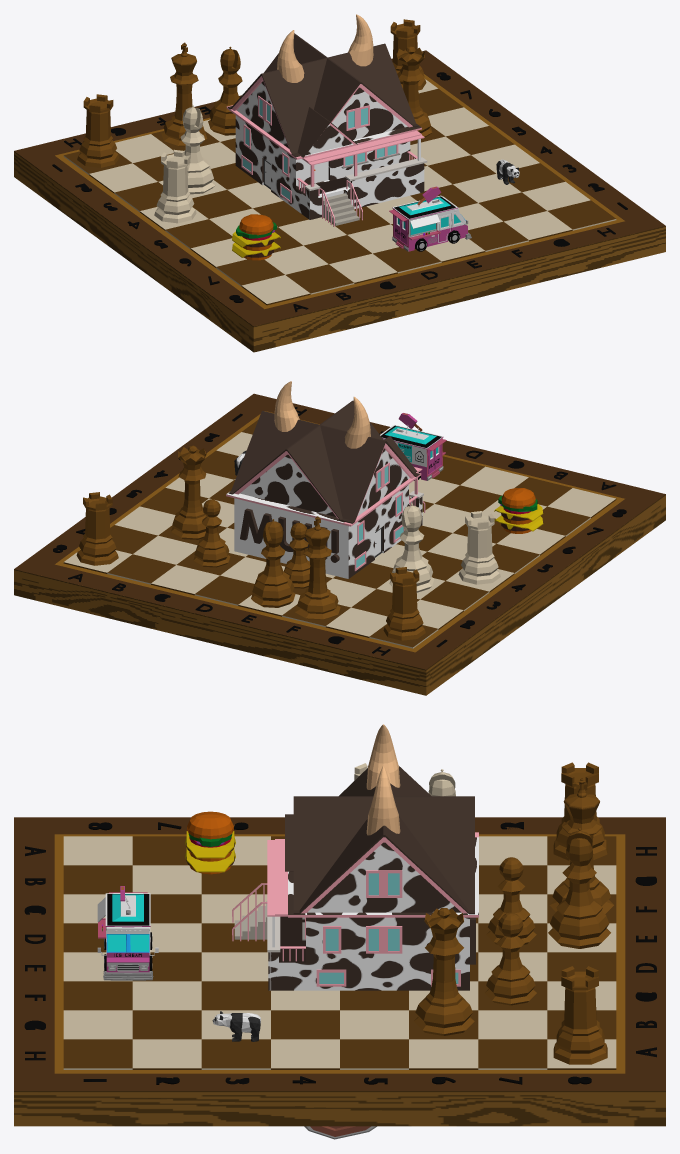
3 views of the same model, one above another, from view 1: azimuth 30°, elevation 25°; view 2: azimuth 150°, elevation 25°; view 3: azimuth 270°, elevation 25° (orthographic). The views are drawn at different scales.
Parts seen in each view (by area): view 1: Cube.002, Cube.1242, VEHICLES_ICE_CREAM_TRUCK, OBJRANDOM_HAMBURGER; view 2: Cube.002, Cube.1242, VEHICLES_ICE_CREAM_TRUCK, OBJRANDOM_HAMBURGER; view 3: Cube.002, Cube.1242, VEHICLES_ICE_CREAM_TRUCK, OBJRANDOM_HAMBURGER, ANIMAL_PANDA, UNDERGROUND_TREASURE.
Boxes of the visible parts, x1,y1,x2,y2 form: Cube.002: (14,19,665,352); Cube.1242: (226,14,427,226); VEHICLES_ICE_CREAM_TRUCK: (389,186,471,251); OBJRANDOM_HAMBURGER: (232,214,280,260); Cube.002: (14,393,665,695); Cube.1242: (226,381,425,578); VEHICLES_ICE_CREAM_TRUCK: (380,413,446,480); OBJRANDOM_HAMBURGER: (494,488,543,533); Cube.002: (14,762,665,1126); Cube.1242: (232,724,478,990); VEHICLES_ICE_CREAM_TRUCK: (97,886,158,980); OBJRANDOM_HAMBURGER: (185,811,235,874); ANIMAL_PANDA: (212,1011,260,1041); UNDERGROUND_TREASURE: (304,1126,376,1139).
Bounding box in the file's own units: 3981 × 2460 × 4012.
Materials: 50 (2 with a texture image).
